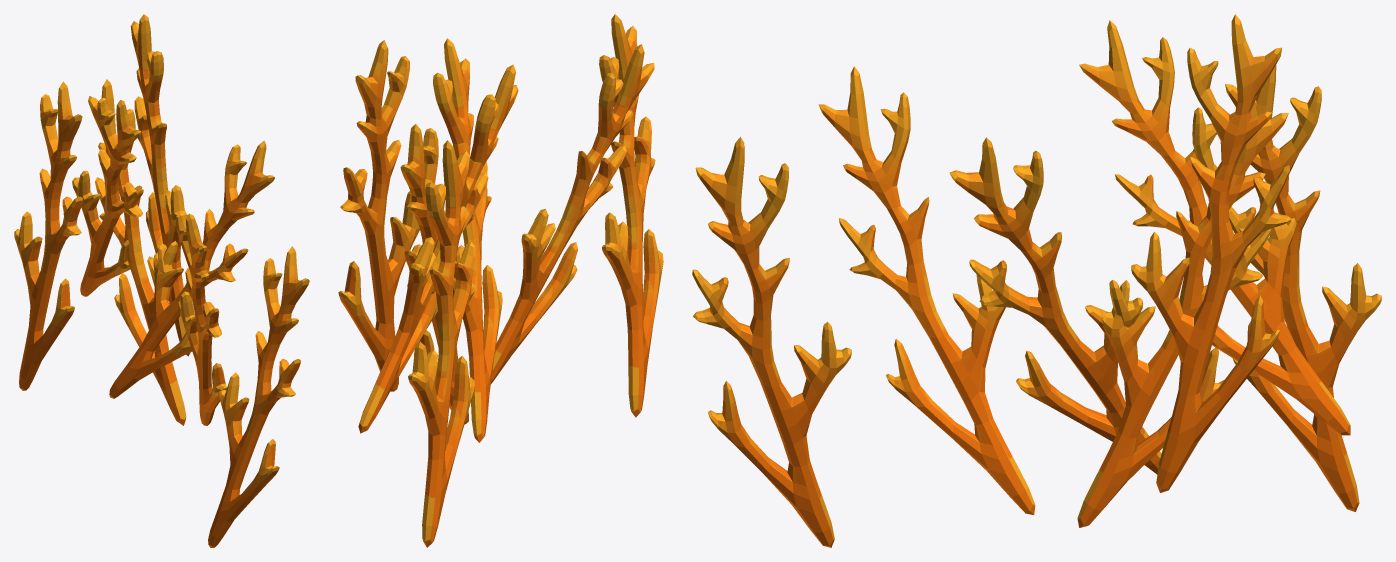
The model's file is orangecoral2.glb.
3 renders of one model, left to right at view 1: azimuth 30°, elevation 25°; view 2: azimuth 150°, elevation 25°; view 3: azimuth 270°, elevation 25°, orthographic. The views are drawn at different scales.
Visible parts, largest first — view 1: Plane.005; view 2: Plane.005; view 3: Plane.005.
Part boxes in pixels (bbox=[...]): Plane.005: bbox=[14, 14, 309, 547]; Plane.005: bbox=[338, 14, 663, 547]; Plane.005: bbox=[692, 14, 1381, 547].
Size of the model in its own units: 6.98 by 21.7 by 23.12.
Materials: 1 (1 with a texture image).
